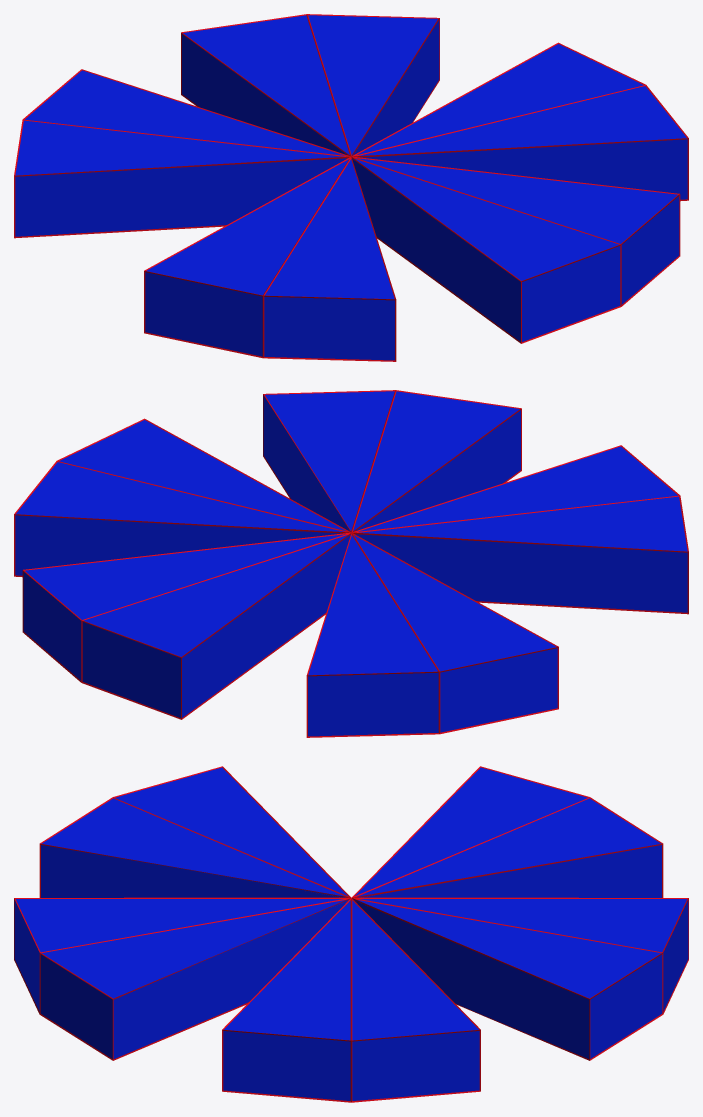
The picture shows the model from 3 angles, top to bottom: view 1: azimuth 30°, elevation 25°; view 2: azimuth 150°, elevation 25°; view 3: azimuth 270°, elevation 25°; orthographic projection.
Parts seen in each view (by area): view 1: L7_Cylinder_F1; view 2: L7_Cylinder_F1; view 3: L7_Cylinder_F1.
Part boxes in pixels (x1,y1,x2,y2): L7_Cylinder_F1: [14, 14, 688, 361]; L7_Cylinder_F1: [14, 390, 688, 737]; L7_Cylinder_F1: [14, 766, 688, 1102].
Bounding box in the file's own units: 1928 × 205 × 2003.
